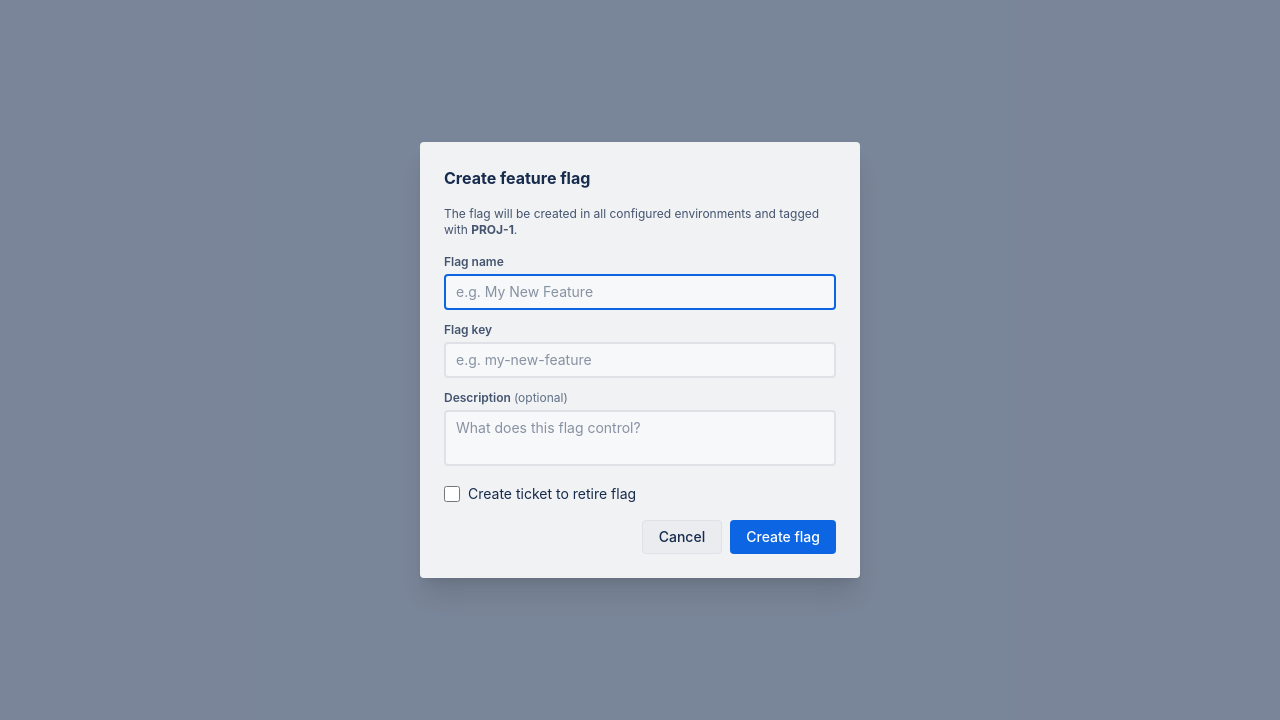
Scenario: CreateFlagModal › shows an error returned from the API
In the field with placeholder "e.g. My New Feature": (640, 292) x1=444 y1=274 x2=836 y2=310, type "My Flag"
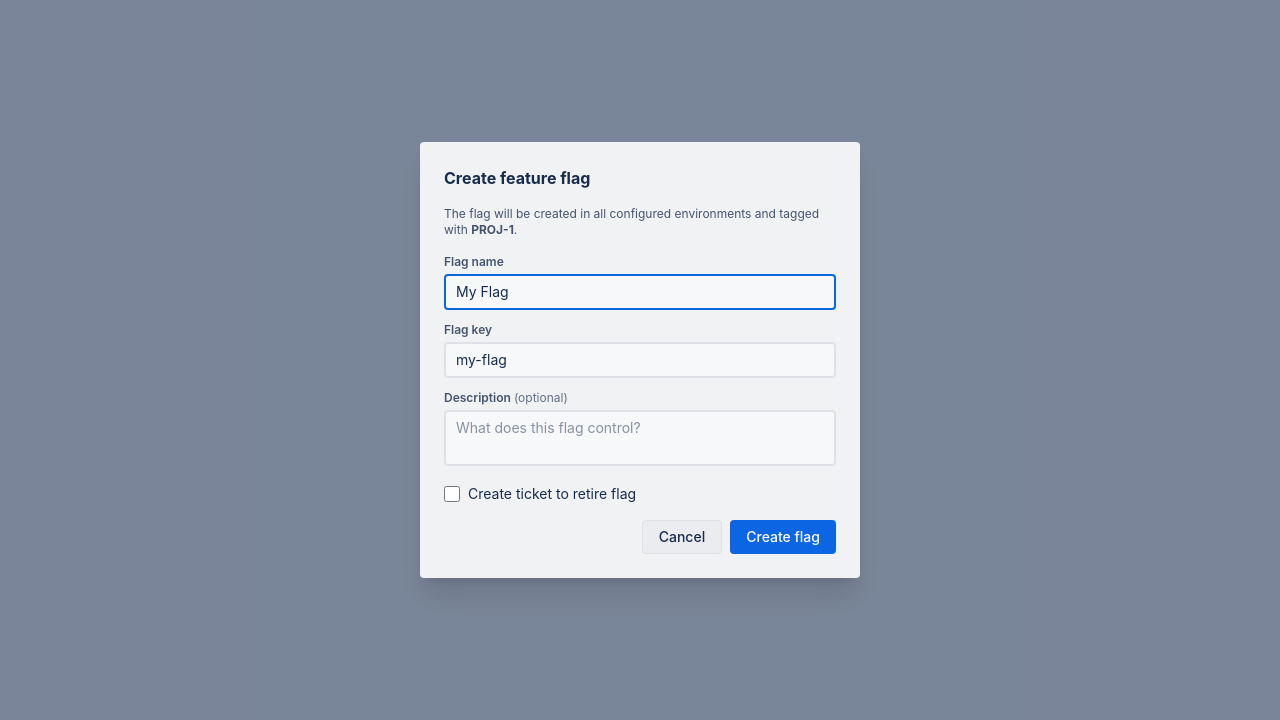
Click the button "Create flag": (783, 537) x1=730 y1=520 x2=836 y2=554
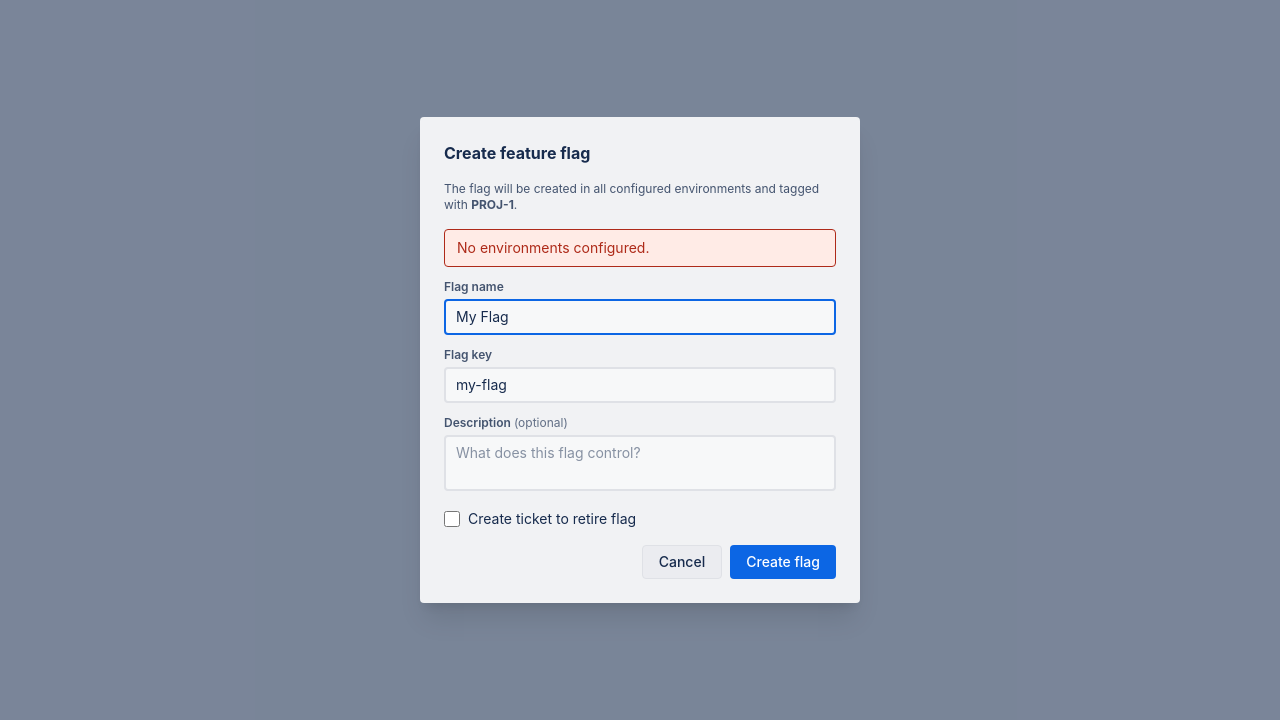
Result: the text "No environments configured" is shown at x1=457 y1=239 x2=650 y2=256
